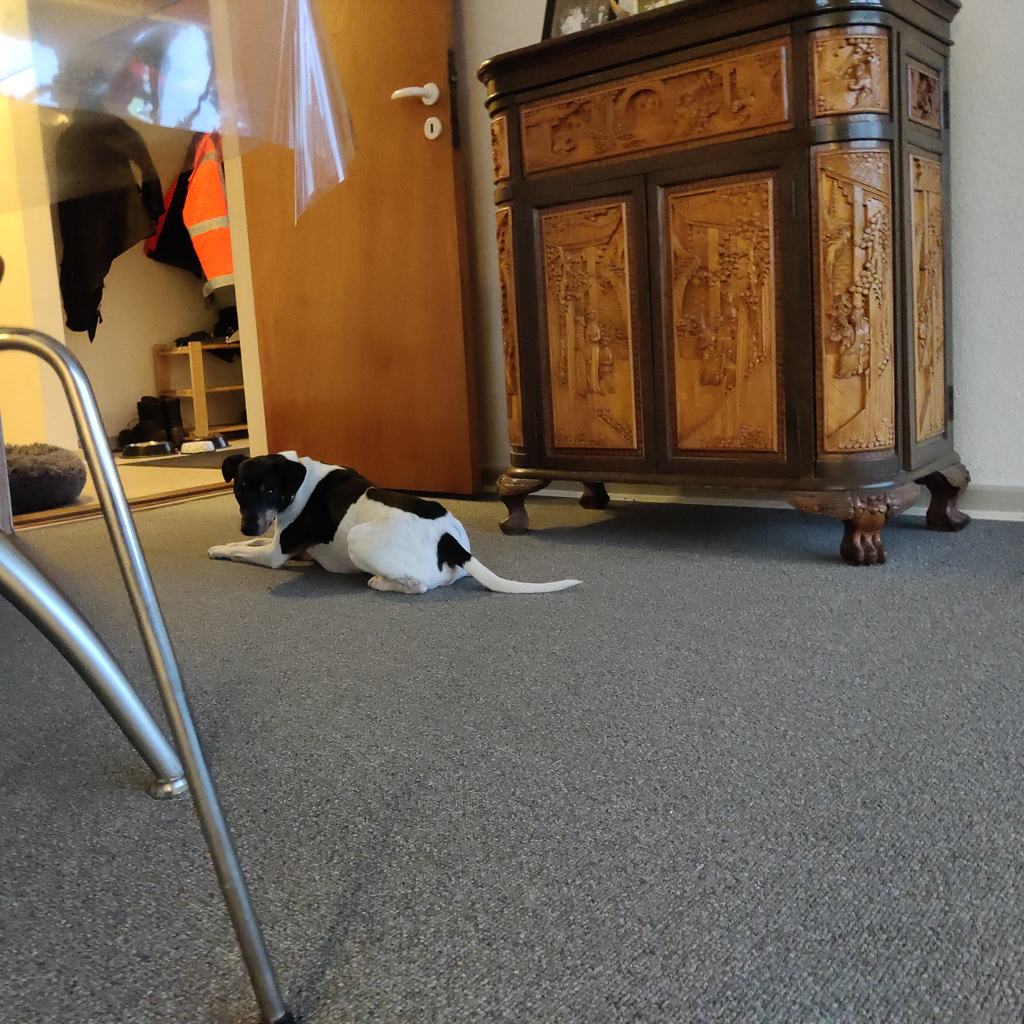Dog: (192, 439, 597, 604)
